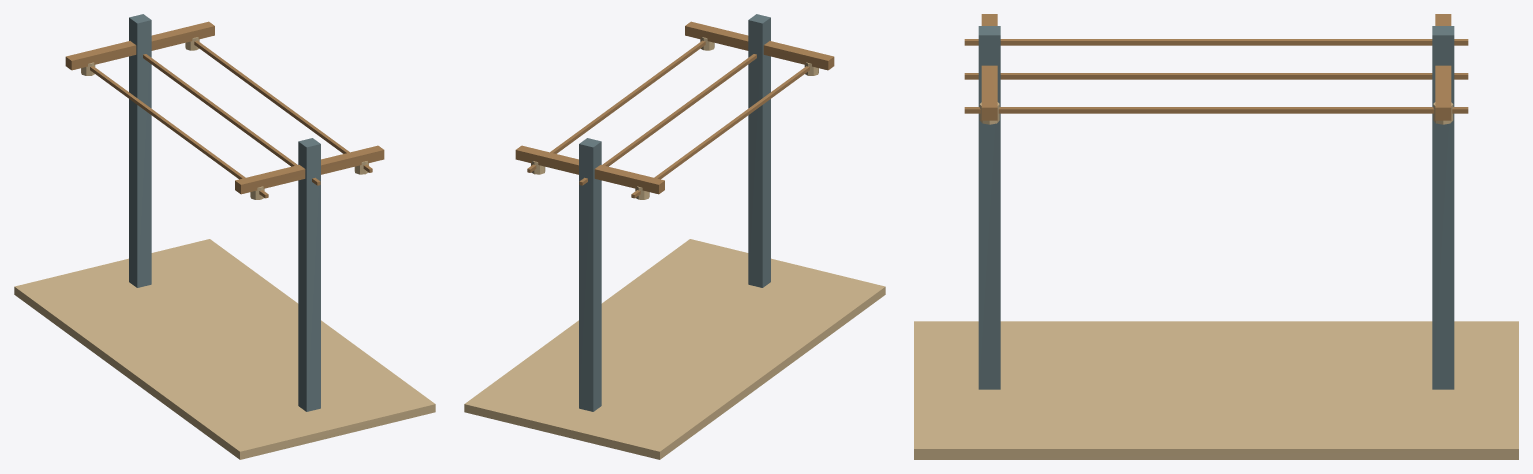
File: Power-Lines.glb
The picture shows the model from 3 angles, left to right: view 1: azimuth 30°, elevation 25°; view 2: azimuth 150°, elevation 25°; view 3: azimuth 270°, elevation 25°; orthographic projection. The views are drawn at different scales.
Visible parts, largest first — view 1: power-lines-static-lines-concrete, power-lines-static-lines-iron, power-lines-static-lines-teal, power-lines-static-lines-galv, power-lines-static-lines-cream; view 2: power-lines-static-lines-concrete, power-lines-static-lines-iron, power-lines-static-lines-teal, power-lines-static-lines-galv, power-lines-static-lines-cream; view 3: power-lines-static-lines-concrete, power-lines-static-lines-iron, power-lines-static-lines-galv, power-lines-static-lines-teal.
Part boxes in pixels (x1,y1,x2,y2): power-lines-static-lines-concrete: [14, 239, 435, 459]; power-lines-static-lines-iron: [129, 14, 320, 411]; power-lines-static-lines-teal: [65, 21, 384, 194]; power-lines-static-lines-galv: [90, 40, 372, 198]; power-lines-static-lines-cream: [81, 37, 368, 199]; power-lines-static-lines-concrete: [464, 239, 885, 459]; power-lines-static-lines-iron: [579, 14, 770, 411]; power-lines-static-lines-teal: [515, 21, 834, 194]; power-lines-static-lines-galv: [527, 40, 809, 198]; power-lines-static-lines-cream: [531, 37, 818, 199]; power-lines-static-lines-concrete: [914, 321, 1518, 459]; power-lines-static-lines-iron: [978, 26, 1454, 389]; power-lines-static-lines-galv: [964, 39, 1468, 113]; power-lines-static-lines-teal: [981, 14, 1451, 120].
Size of the model in its own units: 3 by 4 by 6.
